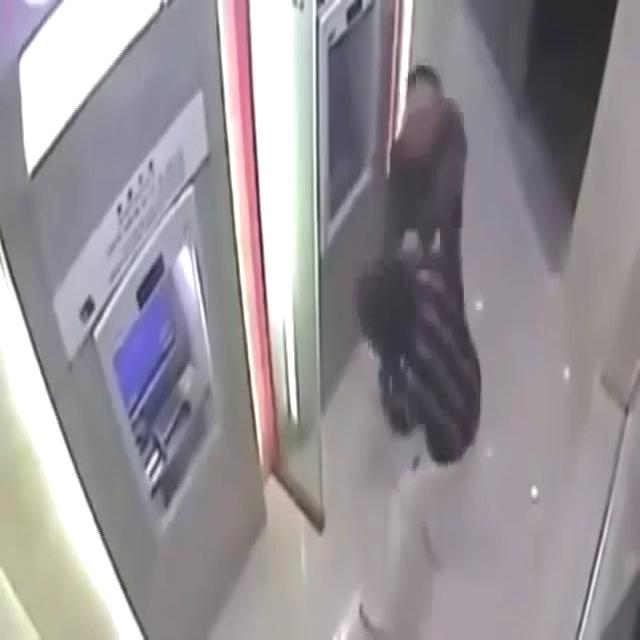fight: (344, 51, 526, 472), (347, 58, 526, 462)
